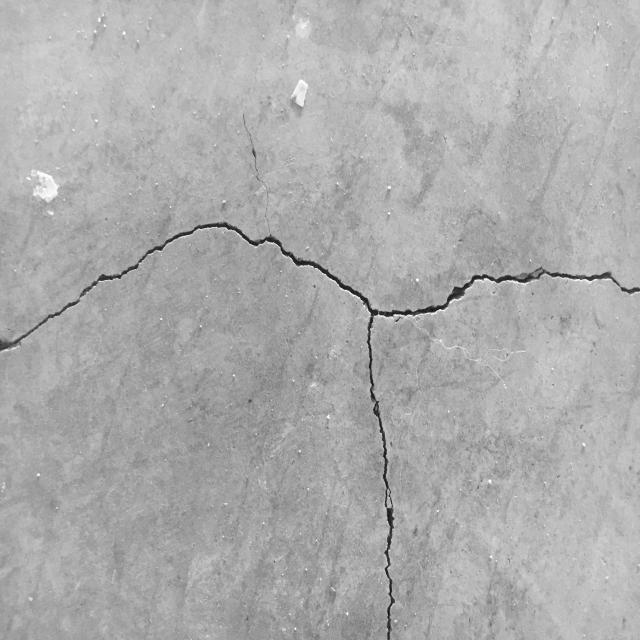SurfaceCrack: (0, 190, 639, 372)
